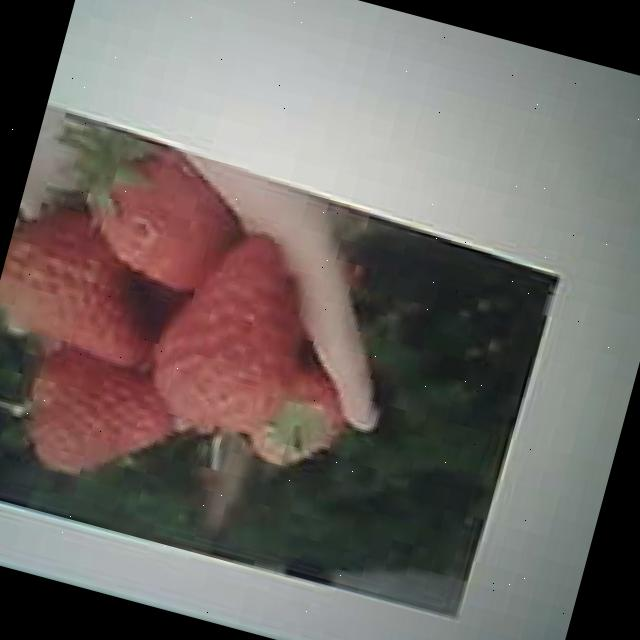strawberry: (143, 215, 320, 442), (0, 192, 177, 368), (14, 346, 184, 498)
